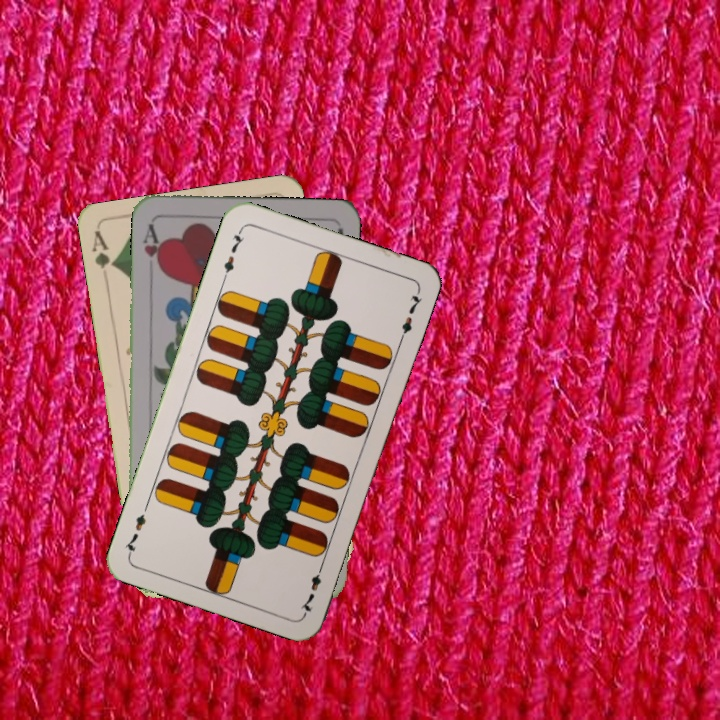E7: (296, 559, 326, 617), (218, 225, 247, 283)
GA: (88, 227, 118, 271)
HA: (139, 220, 165, 274)
